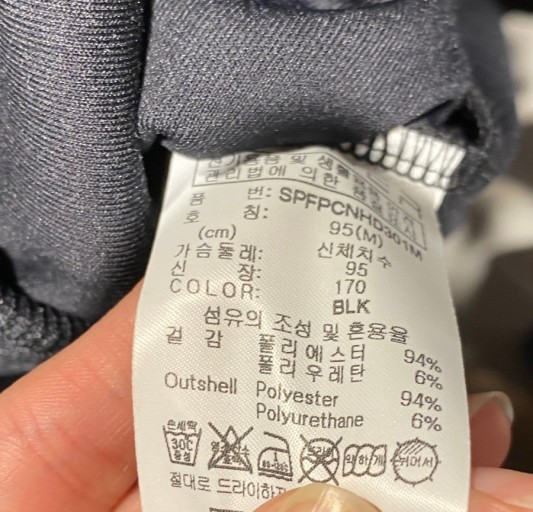KR_dry_clean_petroleum: (159, 416, 203, 468)
KR_flat_dry_in_shade: (390, 438, 440, 485)
KR_gentle_wring: (342, 440, 387, 479)
KR_iron_low_temp_with_cloth: (256, 432, 296, 482)
KR_no_bleach: (205, 420, 255, 475)
KR_no_dry_clean: (297, 436, 341, 484)
